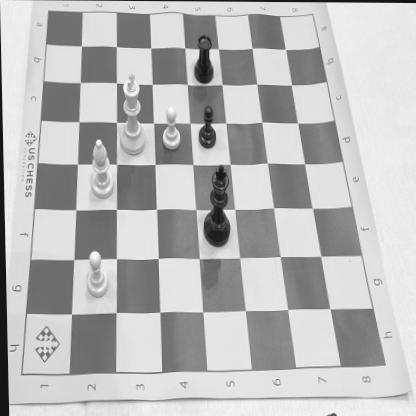black-king: (199, 162, 234, 252)
black-pawn: (196, 105, 216, 153)
black-rook: (190, 32, 216, 86)
white-bishop: (86, 136, 116, 200)
white-king: (118, 72, 147, 158)
white-pawn: (84, 248, 108, 300), (160, 103, 182, 152)
